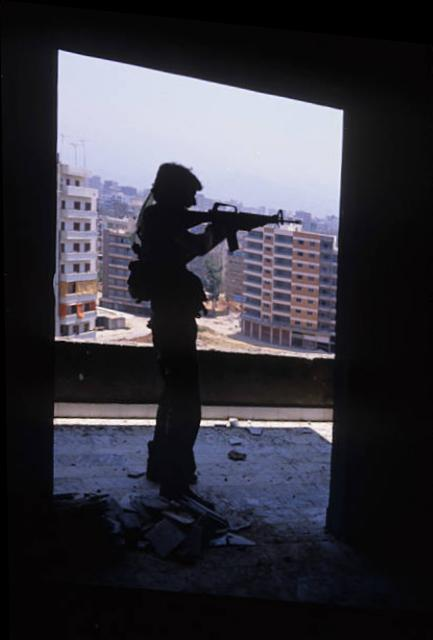other: (127, 151, 207, 486)
